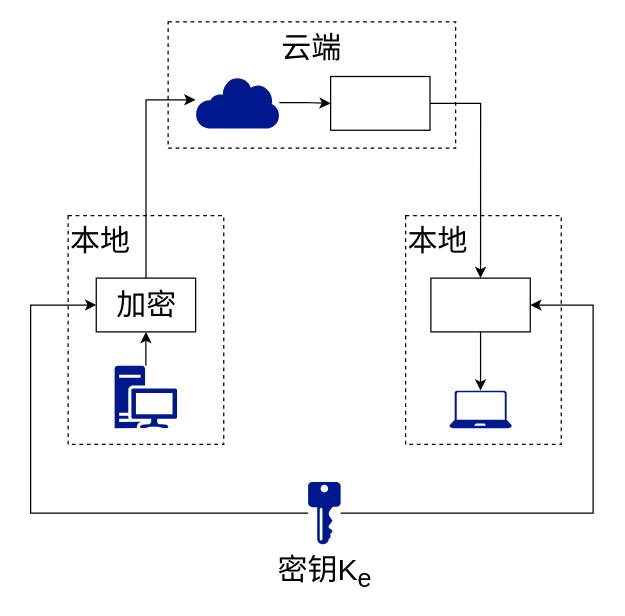
The diagram is 625 pixels wide and 616 high, and some of its shapes have lost their labels. Each missing label, with the centre of its shape:
解密: pixel 480 304
重压缩: pixel 379 102
